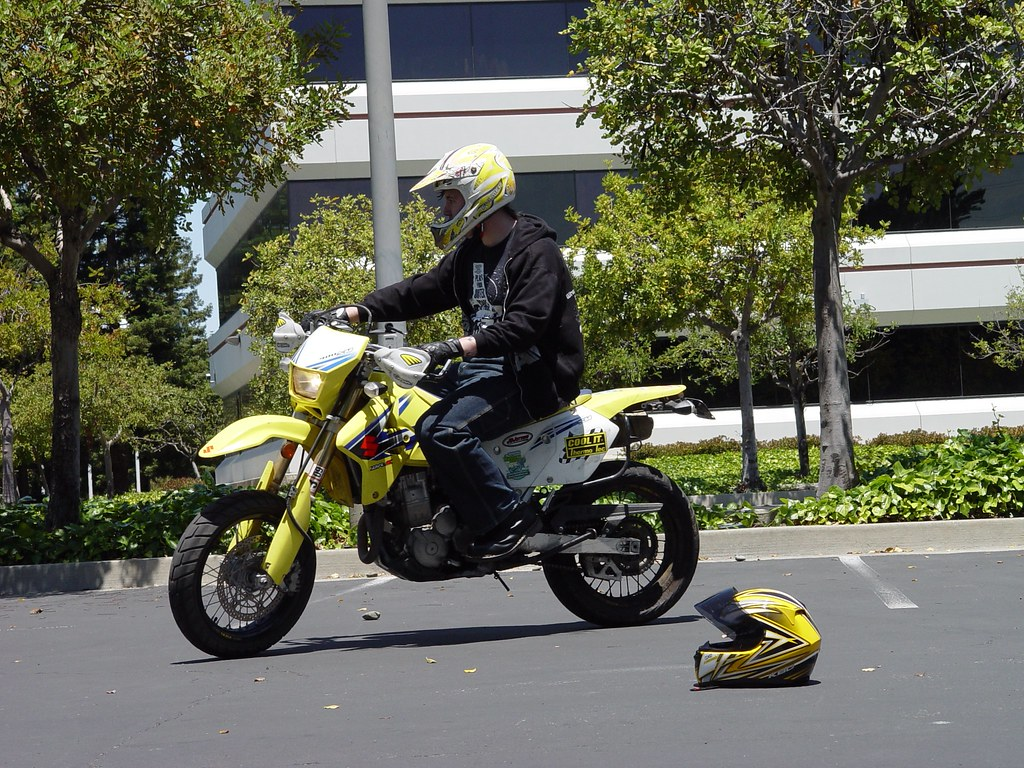helmet: (409, 135, 515, 235)
